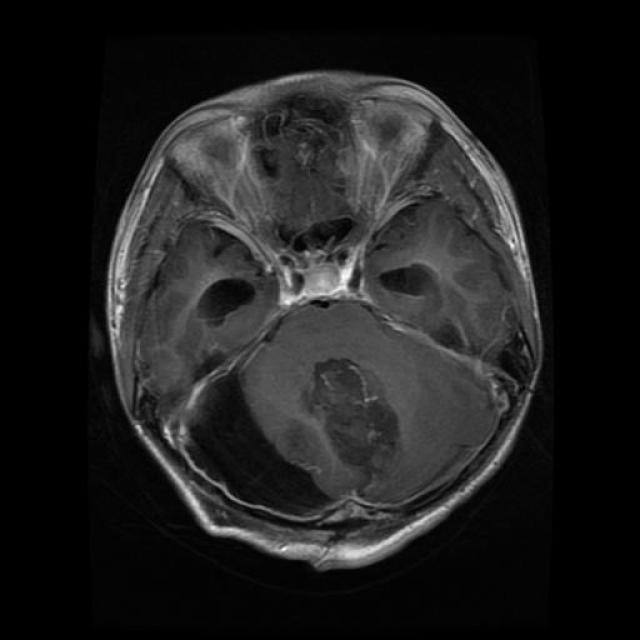glioma: (261, 212, 366, 326)
